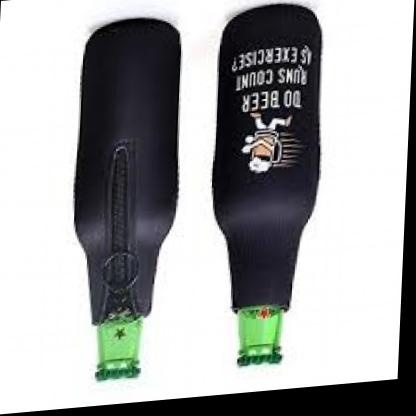trash: (213, 4, 320, 364), (75, 19, 180, 379)
